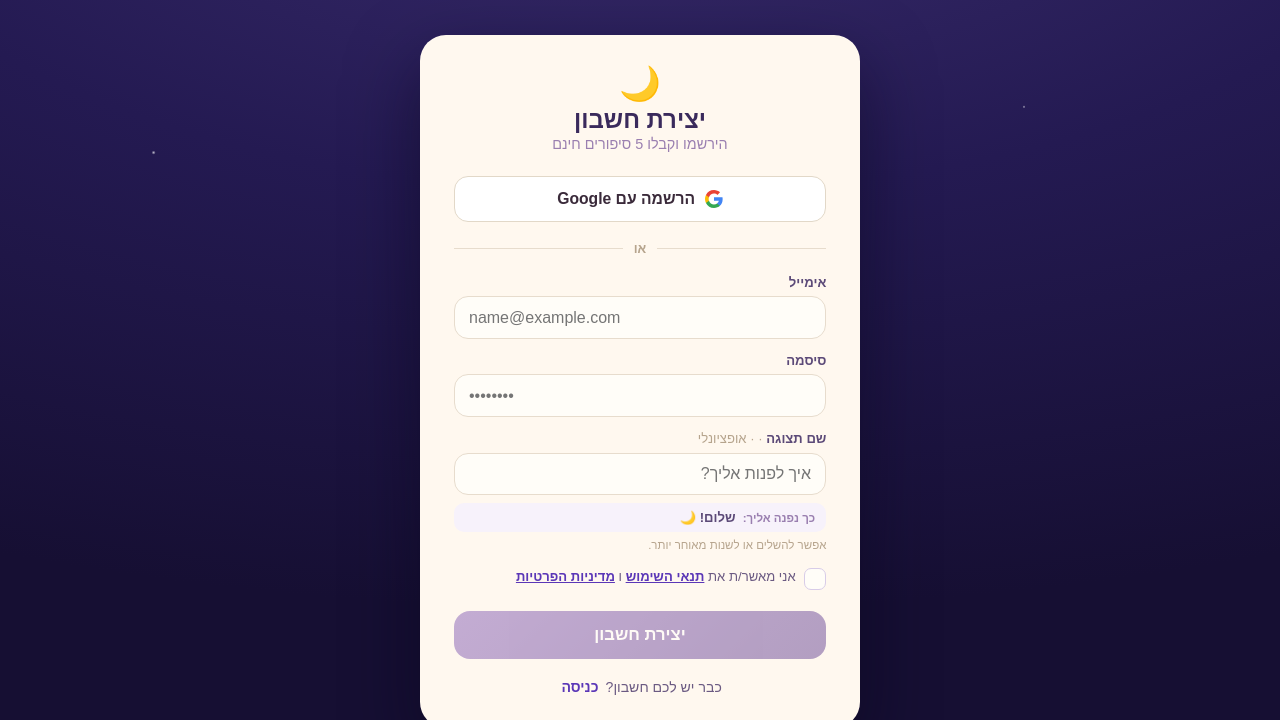
Test case: Auth page — sign-in mode › shows the Google sign-in button
Click the button "כניסה": click(580, 686) [558,678,602,694]
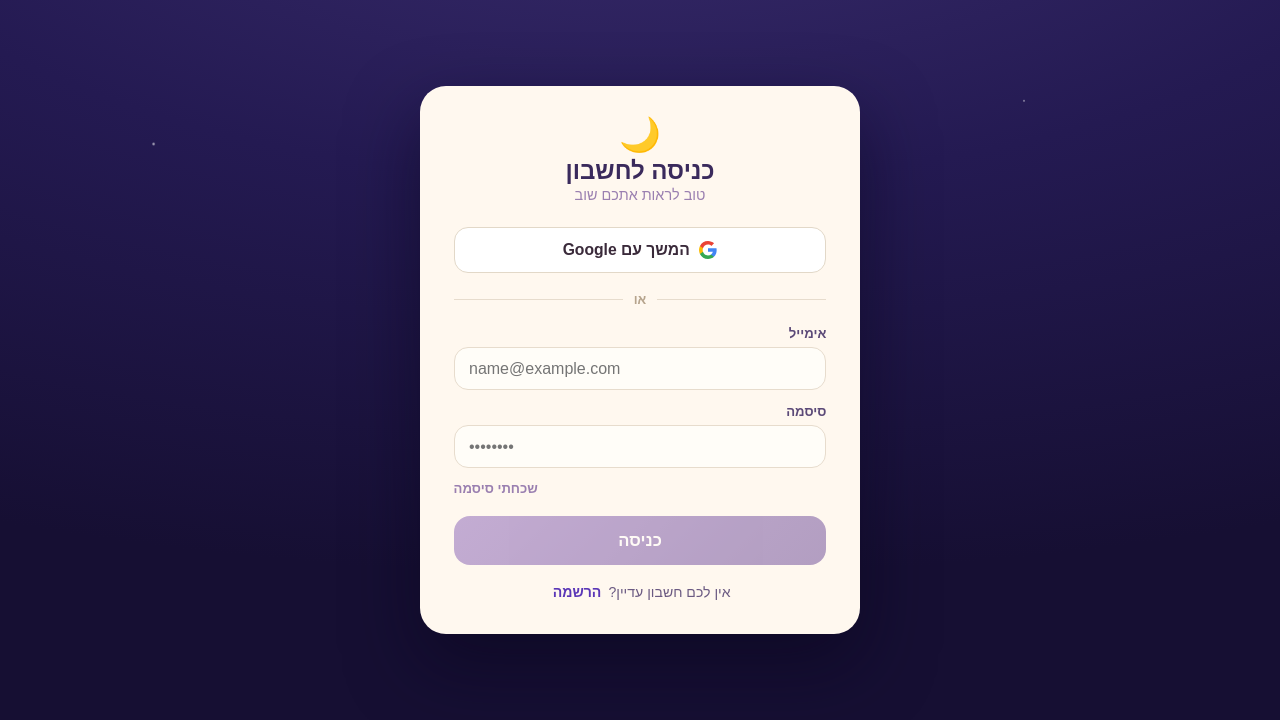
expect the button "המשך עם Google" is shown: met, box [454,227,826,273]
